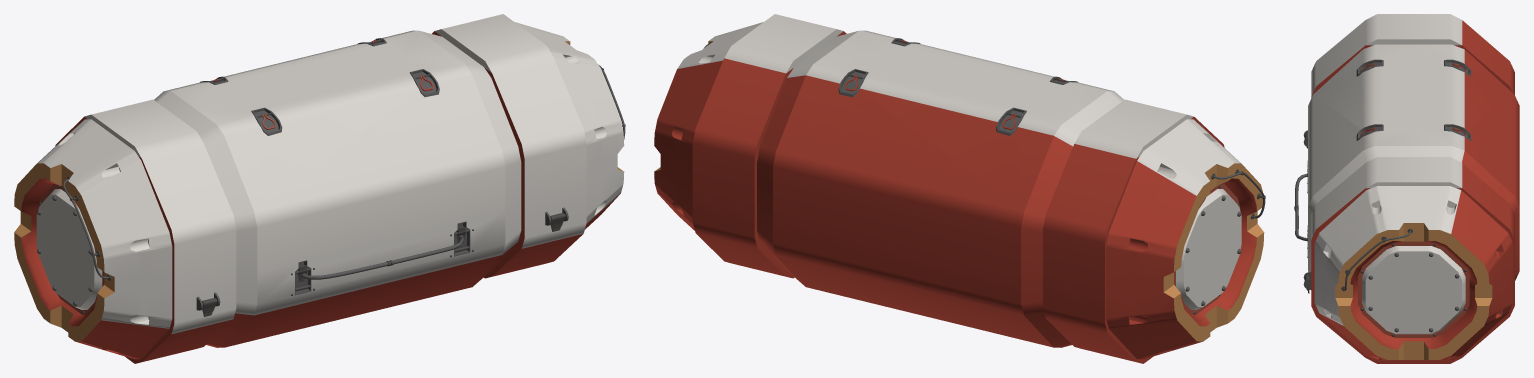
3 views of the same model, side by side, from view 1: azimuth 30°, elevation 25°; view 2: azimuth 150°, elevation 25°; view 3: azimuth 270°, elevation 25° (orthographic). The views are drawn at different scales.
Visible parts, largest first — view 1: polySurface133; view 2: polySurface133; view 3: polySurface133.
Boxes of the visible parts, x1,y1,x2,y2 form: polySurface133: (14,14,625,363); polySurface133: (654,14,1265,363); polySurface133: (1294,14,1519,363).
Bounding box in the file's own units: 8.13 × 3.26 × 3.56.
